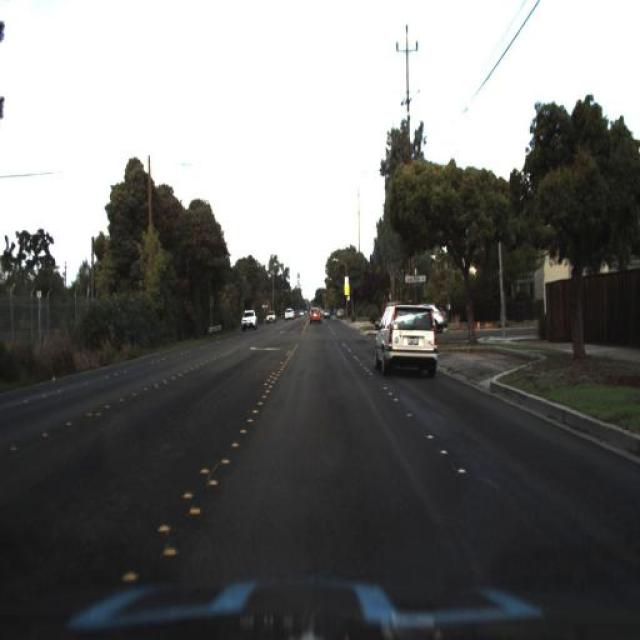car: (376, 296, 436, 382), (240, 307, 258, 331), (307, 304, 324, 324)
